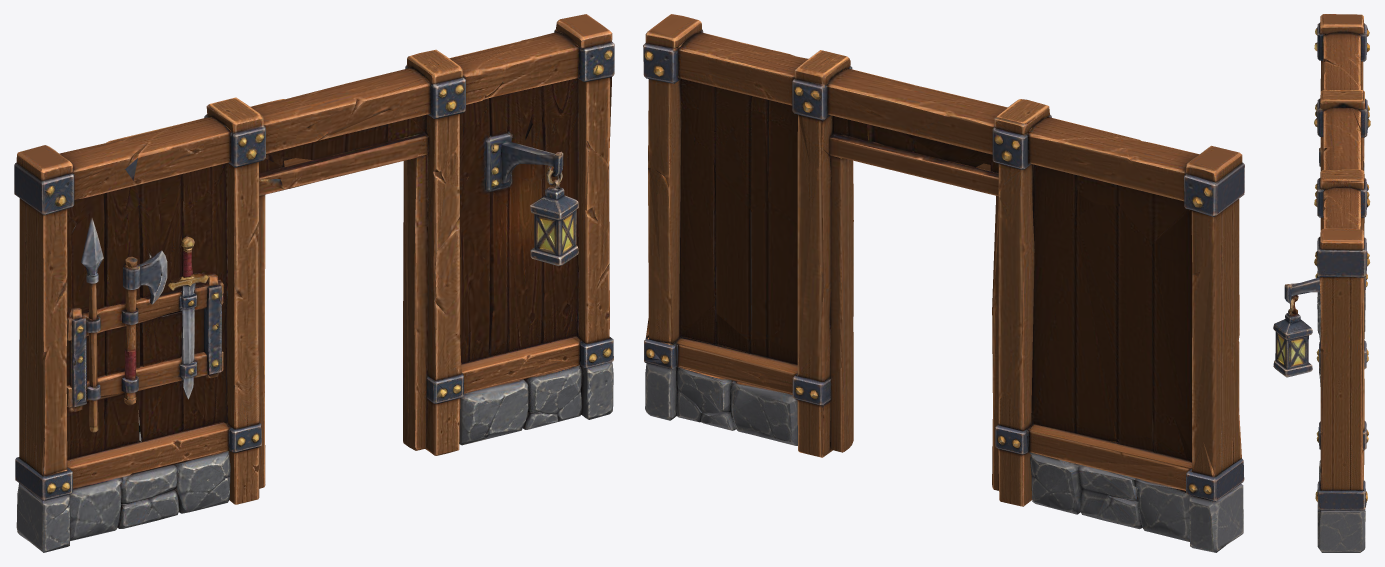
Rendered from wall_entrance.glb.
The picture shows the model from 3 angles, left to right: view 1: azimuth 30°, elevation 25°; view 2: azimuth 150°, elevation 25°; view 3: azimuth 270°, elevation 25°; orthographic projection. The views are drawn at different scales.
Visible parts, largest first — view 1: output_unwrapped; view 2: output_unwrapped; view 3: output_unwrapped.
Part boxes in pixels (bbox=[...]): output_unwrapped: bbox=[14, 14, 614, 552]; output_unwrapped: bbox=[643, 14, 1244, 552]; output_unwrapped: bbox=[1273, 14, 1370, 552].
Bounding box in the file's own units: 1.9 × 1.22 × 0.3436.
Materials: 1 (1 with a texture image).
